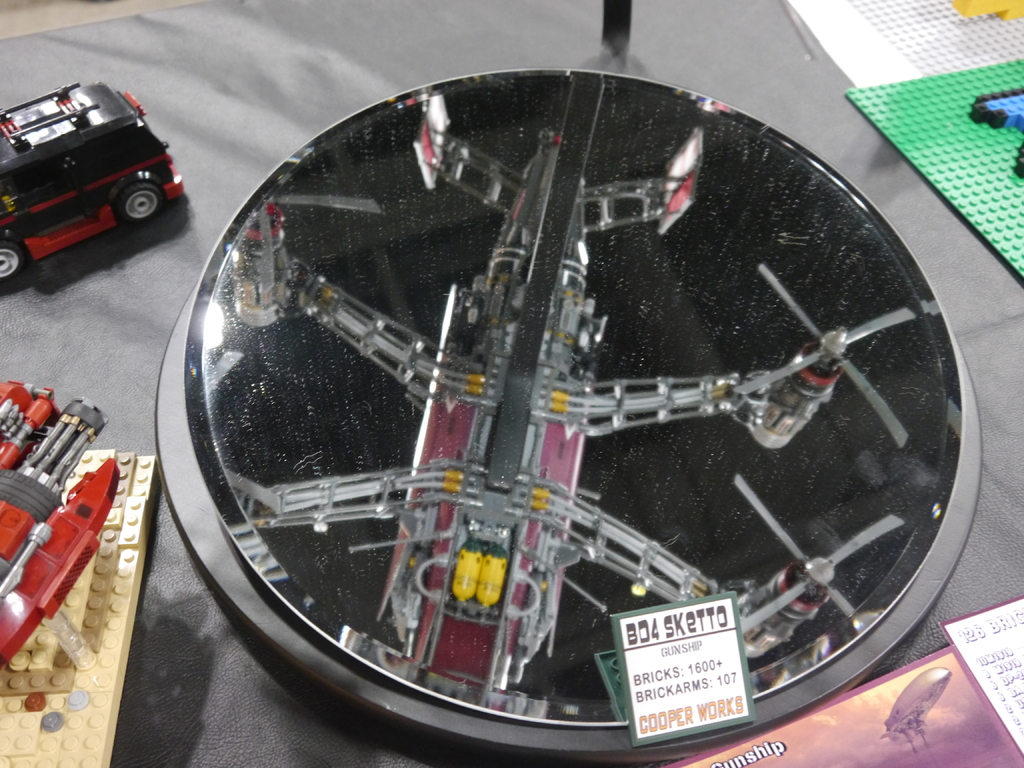Car: (0, 81, 183, 281)
